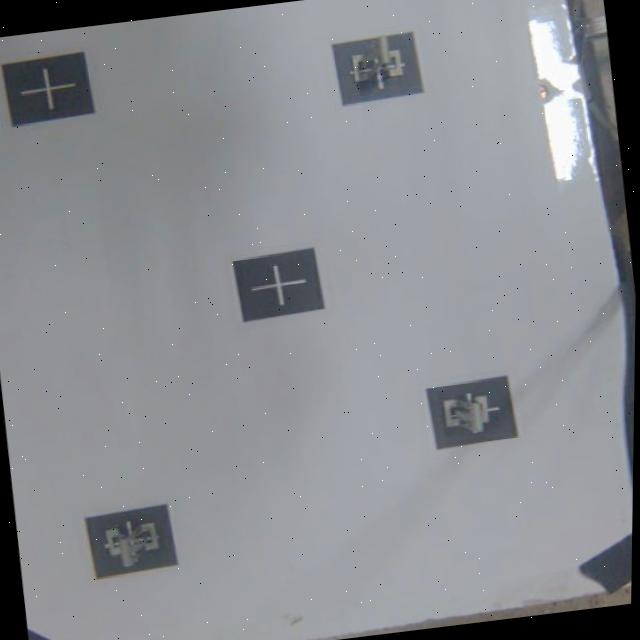pick1: (330, 32, 424, 104)
pick2: (424, 376, 516, 452)
pick5: (86, 504, 179, 581)
